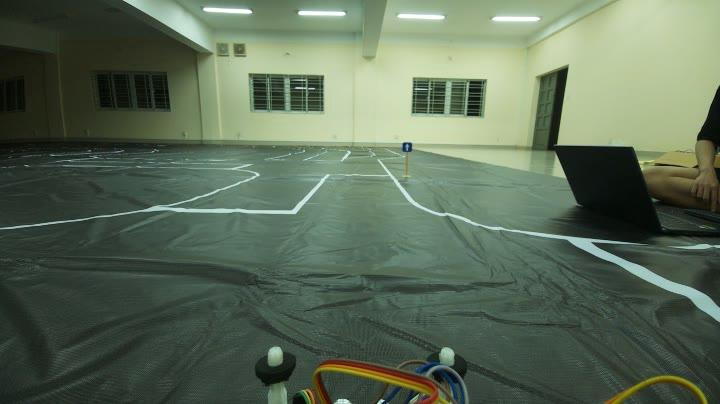onewayroad: (398, 136, 417, 158)
